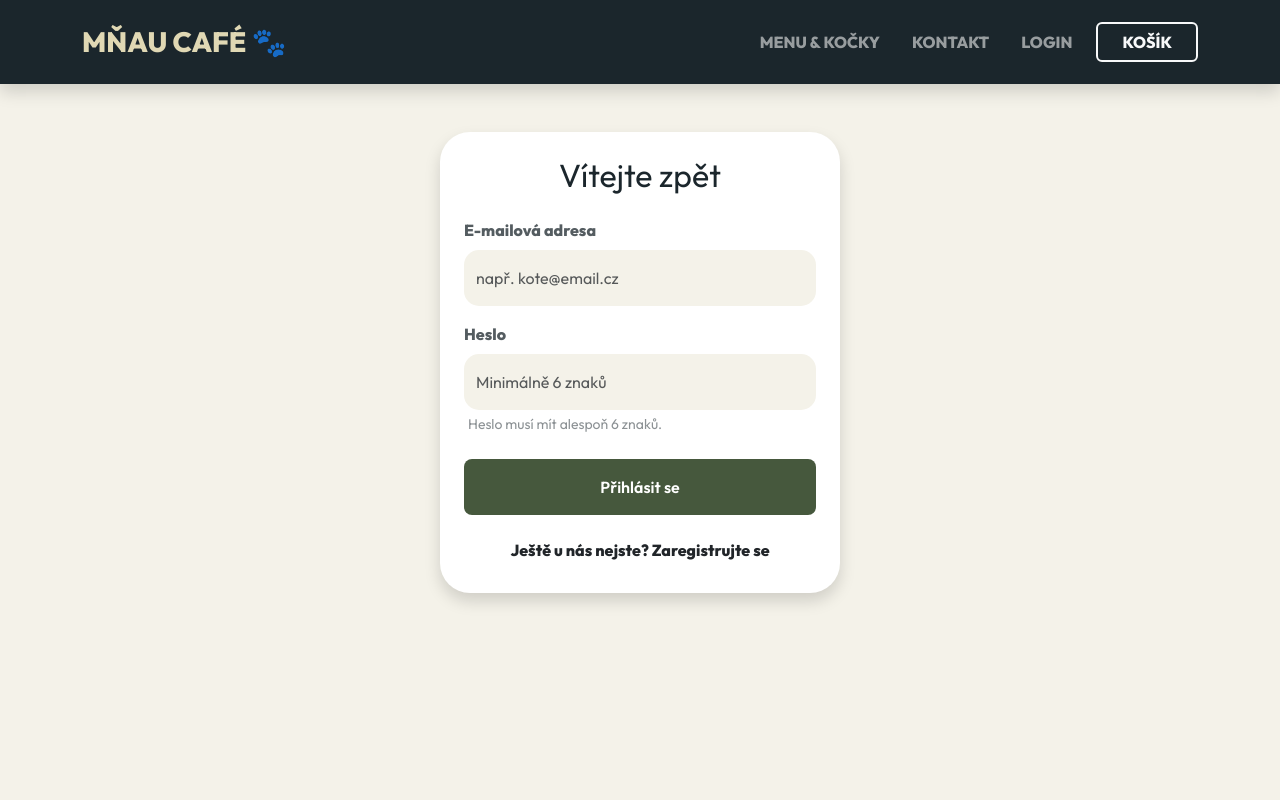
Test: Login – validace › zobrazí chybu pro příliš krátké heslo
The image size is (1280, 800).
Type "jan@email.cz" into the field labelled "E-mailová adresa" at (640, 278), box [464,250,816,306]
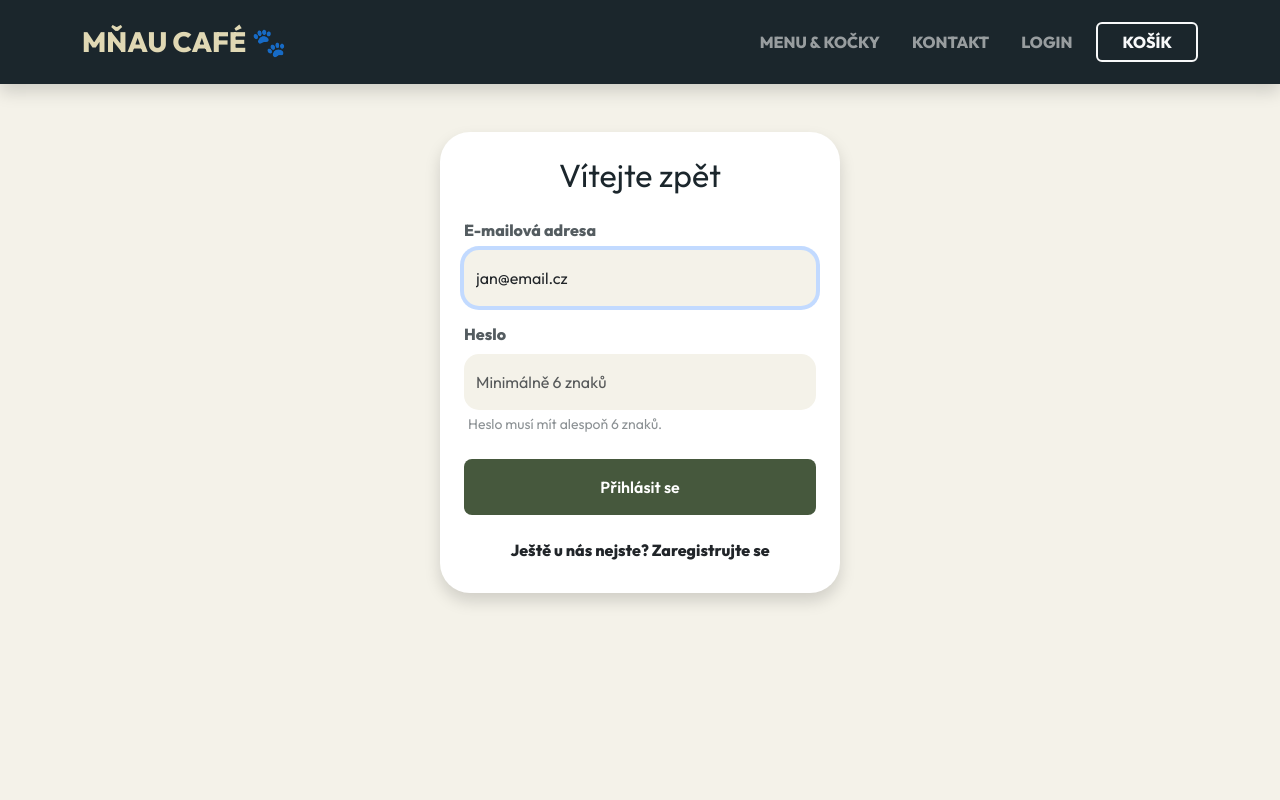
Type "123" into the password field labelled "Heslo" at (640, 382), box [464,354,816,410]
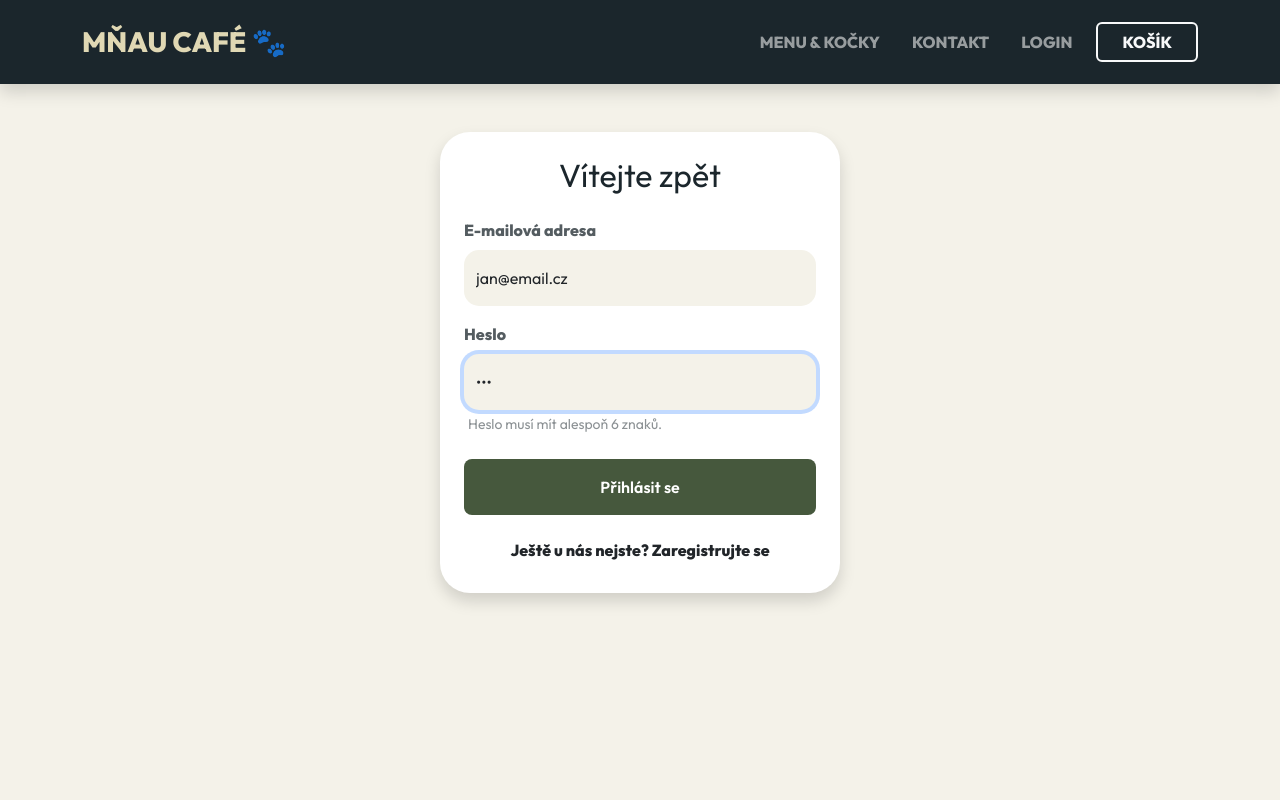
Click the button "Přihlásit se" at (640, 487), box [464,459,816,515]
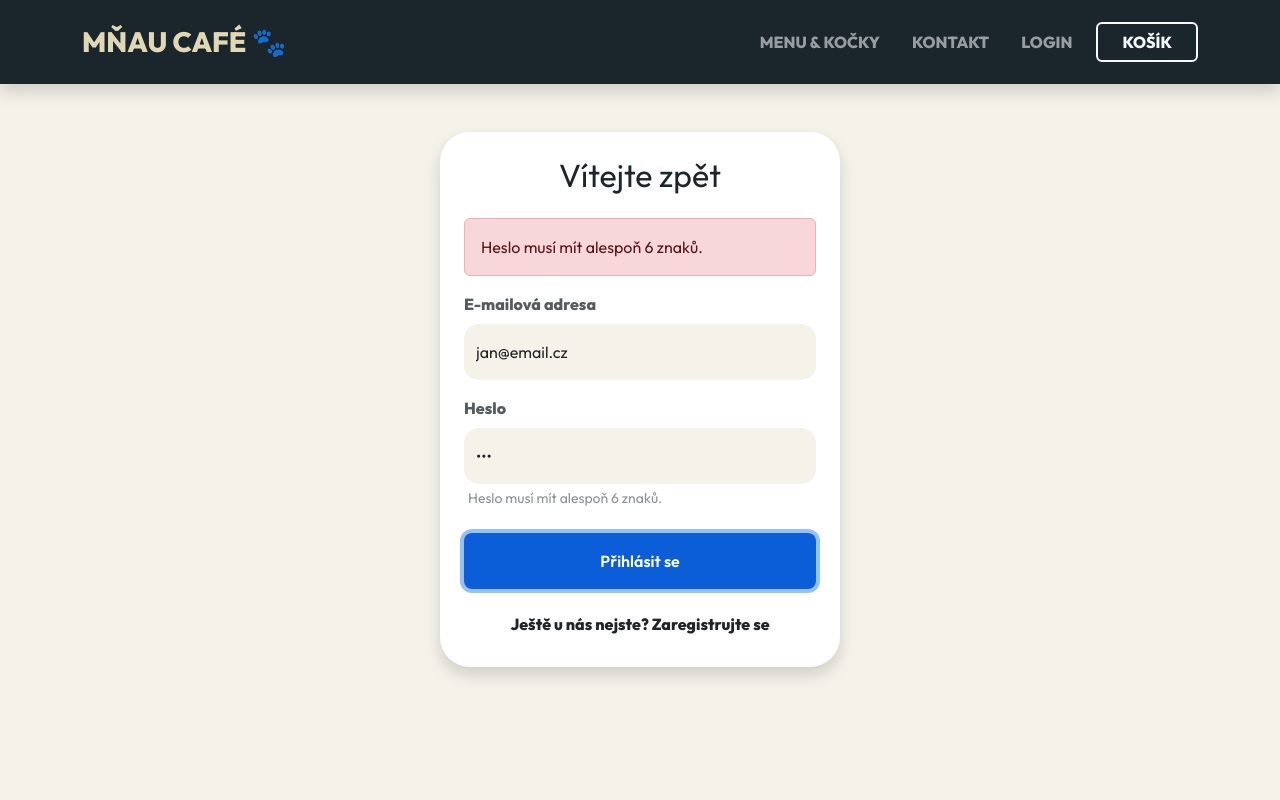
Expected: the message shows "alespoň 6 znaků", [481,237,703,257]
